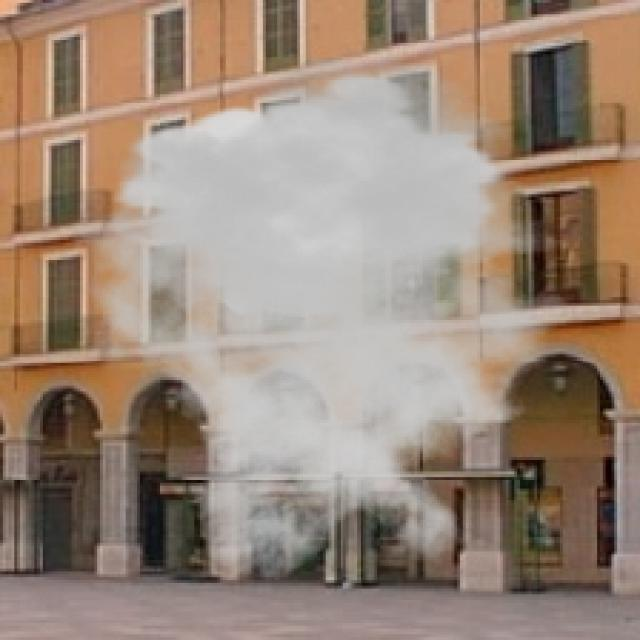Smoke: (62, 54, 608, 583)
